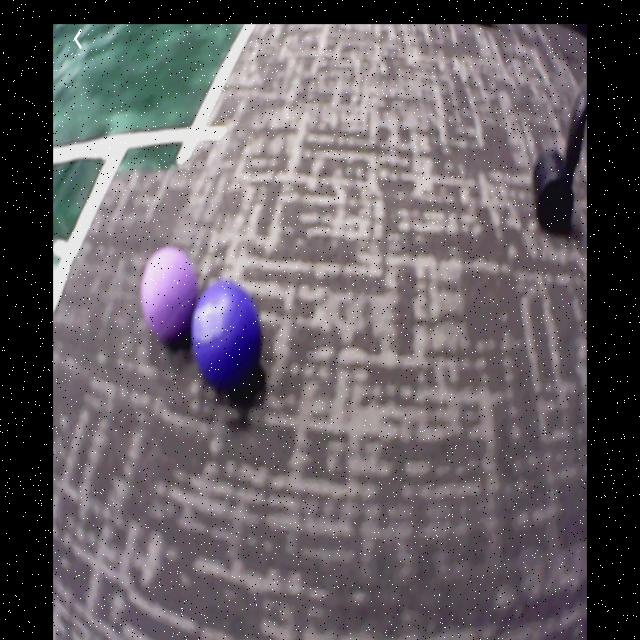ball: (192, 282, 267, 398), (142, 251, 199, 341)
